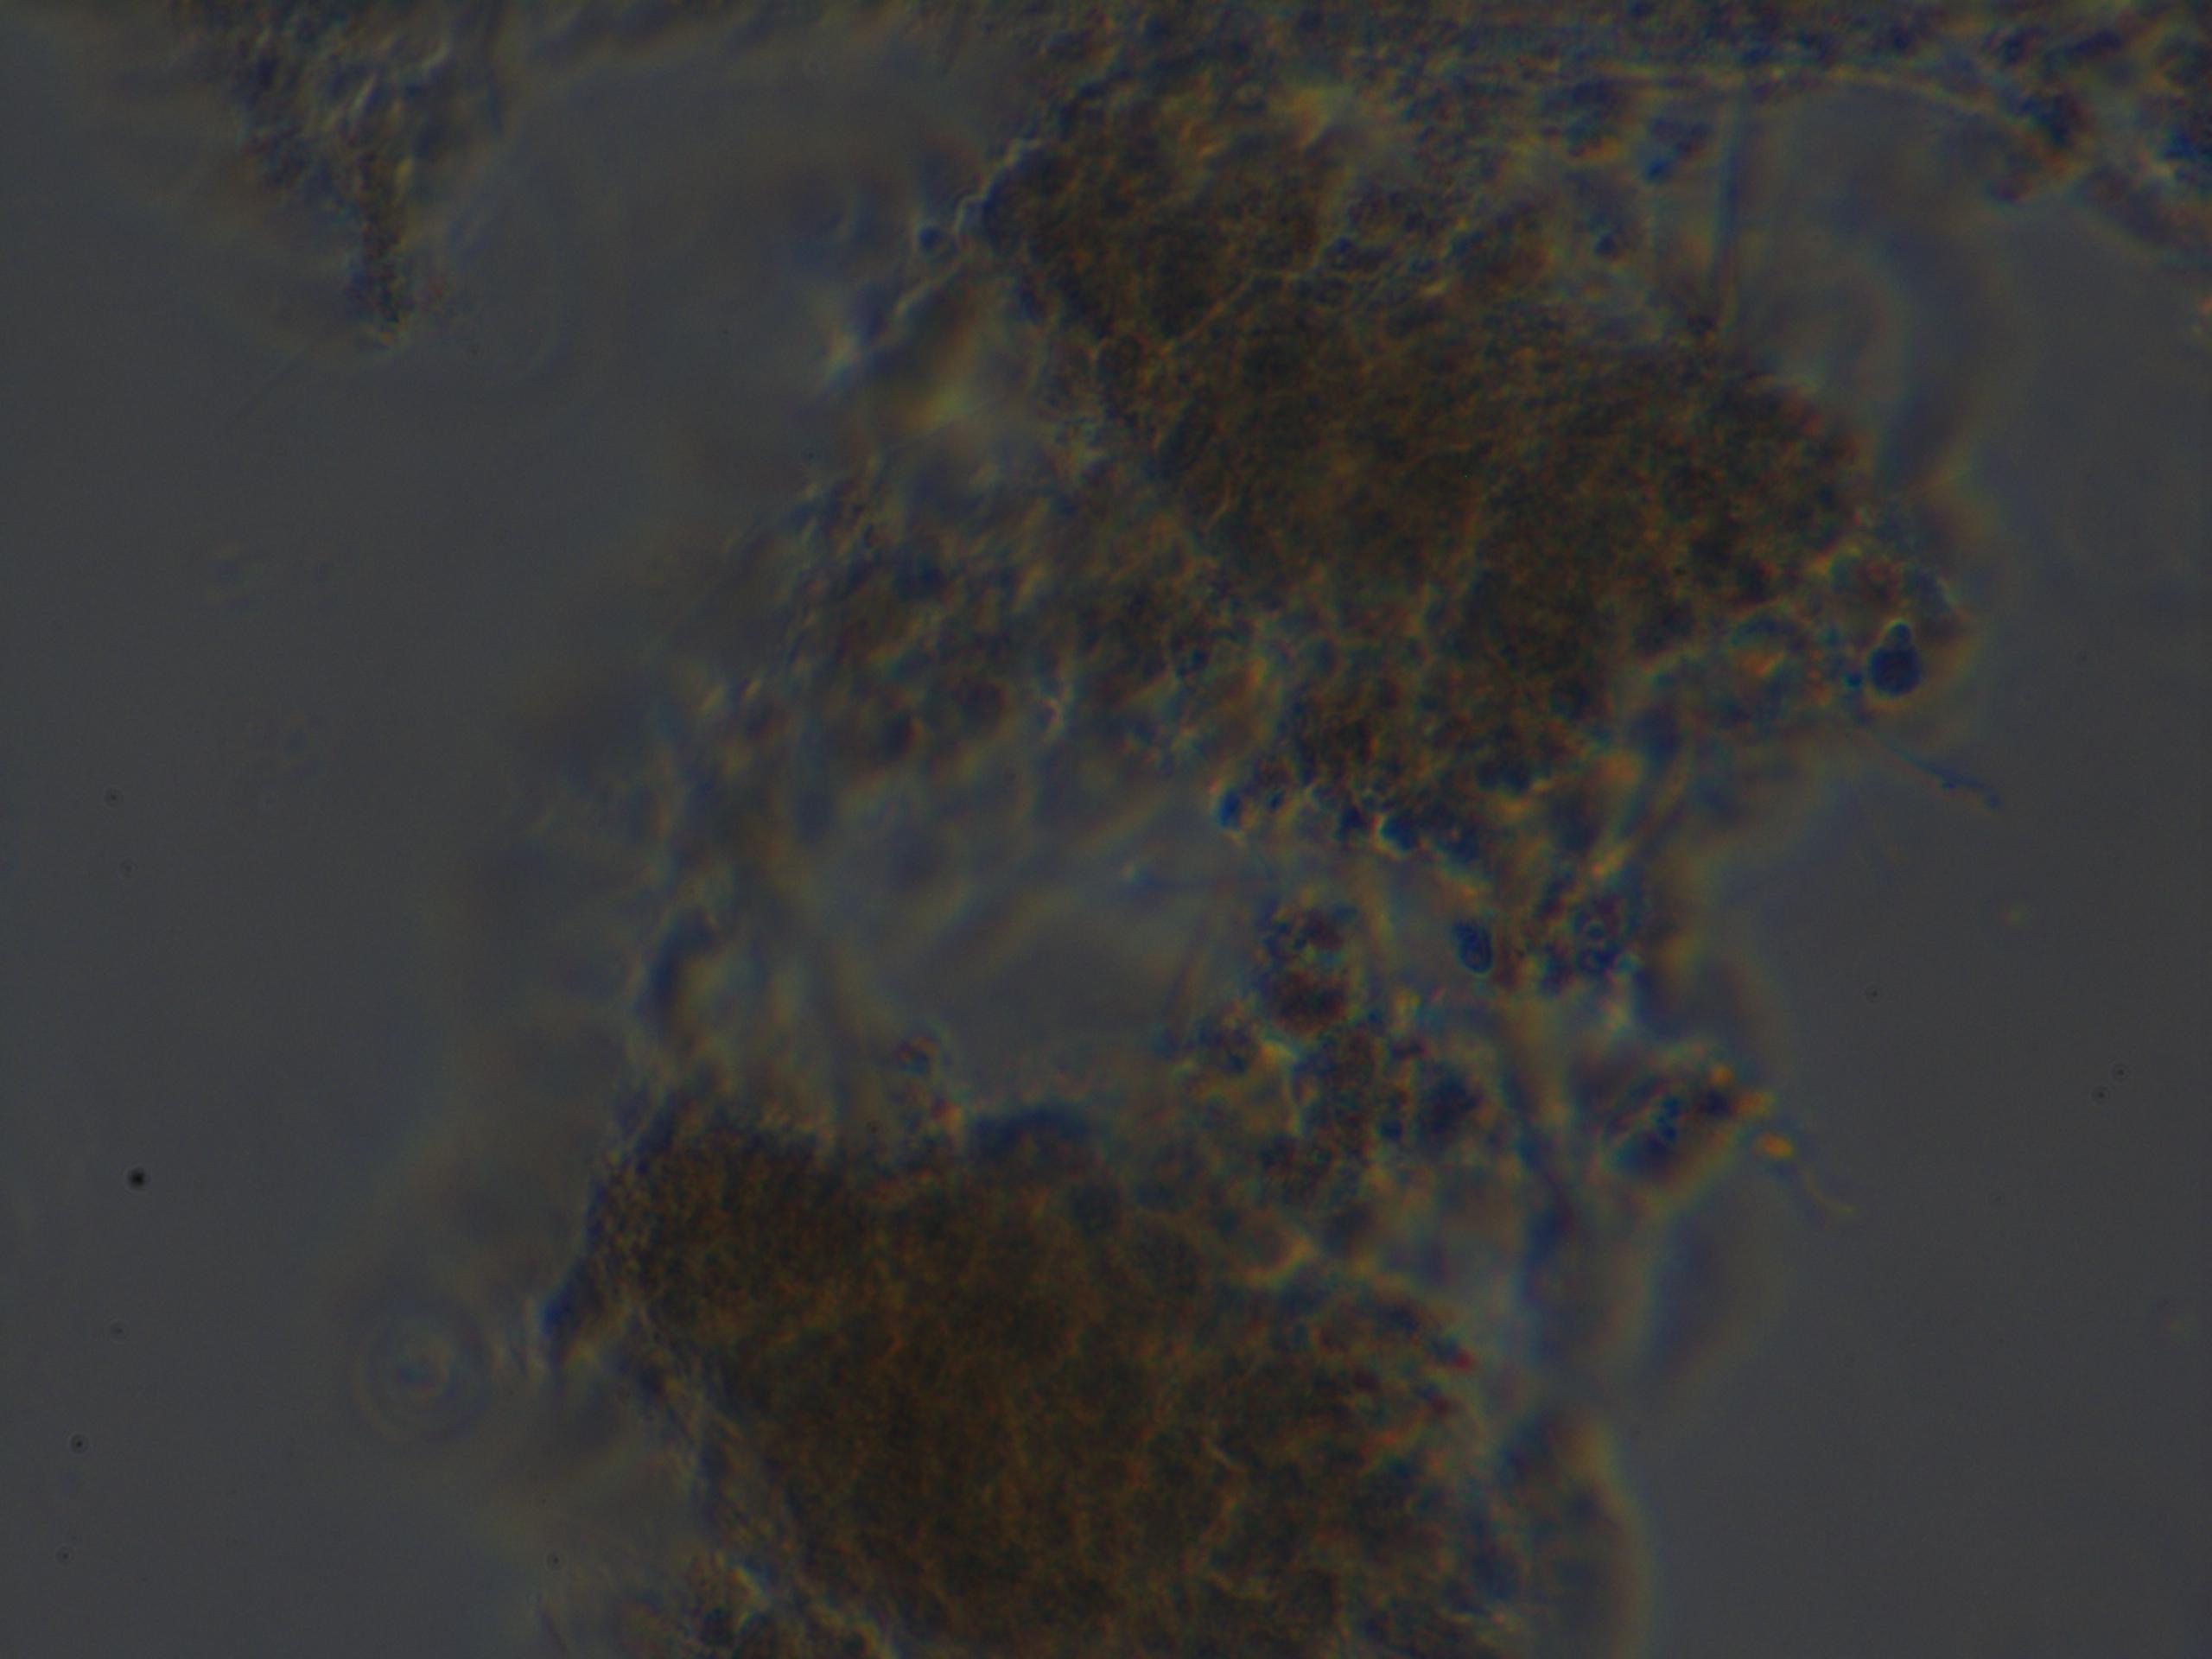open_floc: (479, 0, 1998, 1659)
